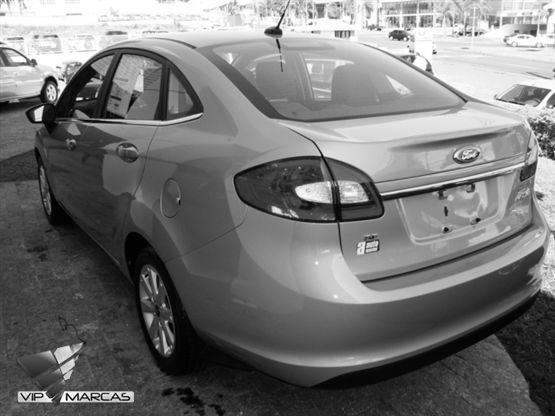car: (25, 28, 549, 391)
